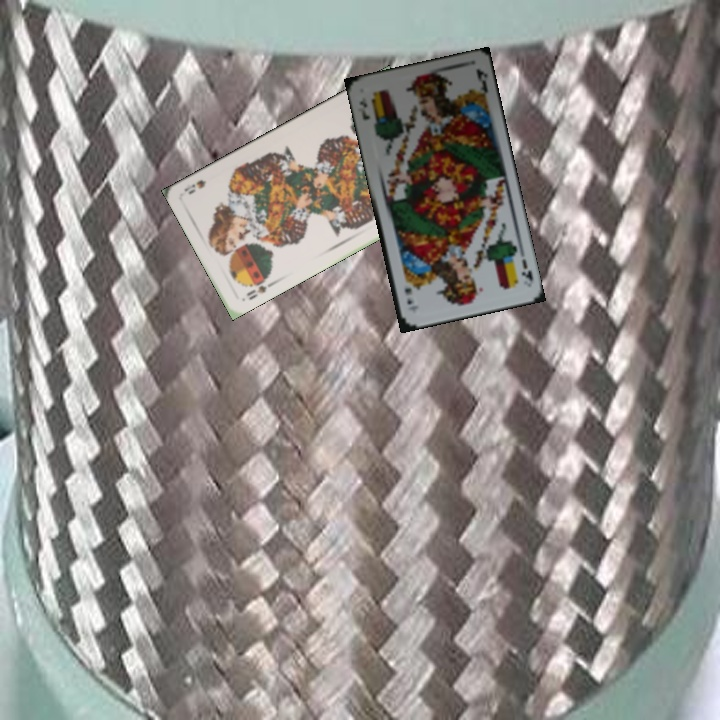EK: (517, 255, 536, 287), (354, 94, 373, 123)
SO: (242, 273, 272, 303)
